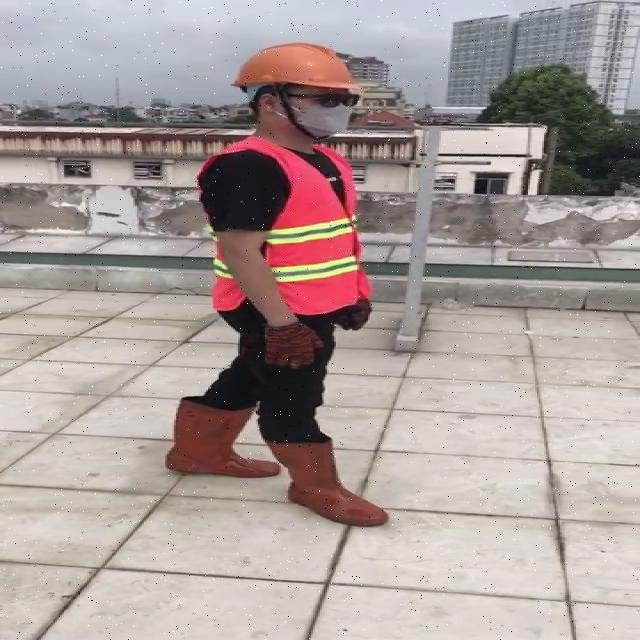Hard_hat: (224, 39, 366, 107)
Person: (160, 38, 386, 533)
Vest: (254, 139, 361, 325)
